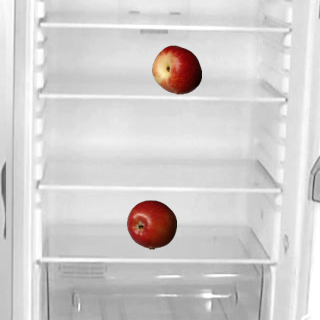Apple Braeburn: (126, 199, 176, 249)
Nectarine: (151, 44, 201, 94)
